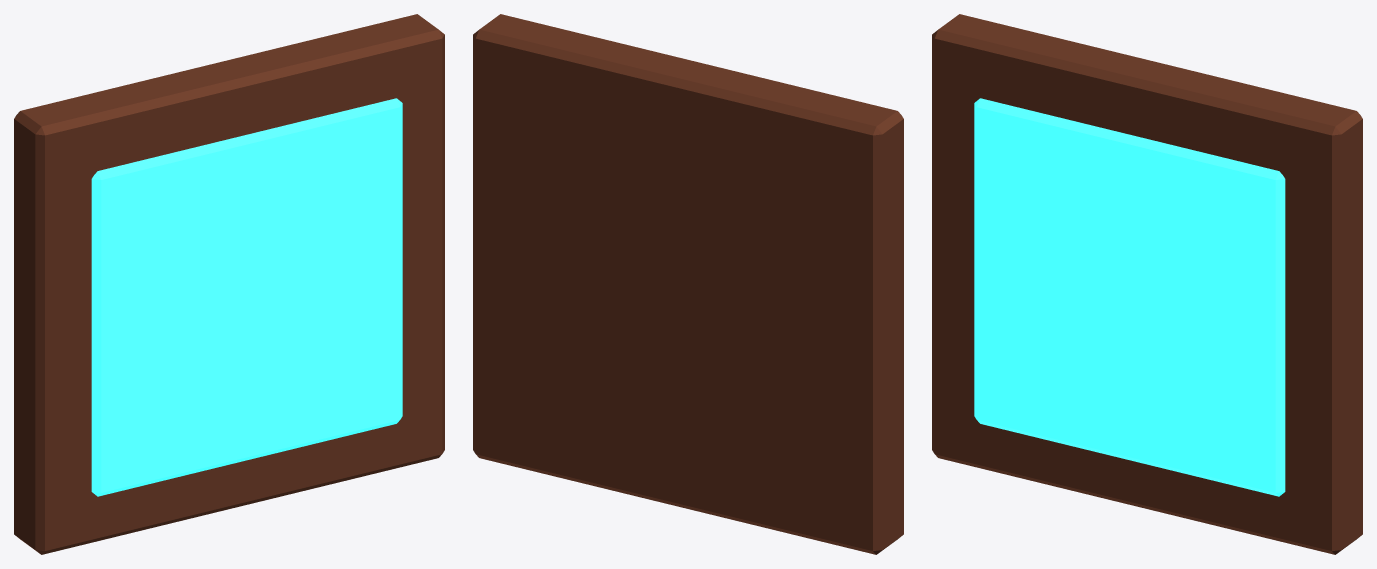
File: RUIN_DET_LightPanel.glb
The picture shows the model from 3 angles, left to right: view 1: azimuth 30°, elevation 25°; view 2: azimuth 150°, elevation 25°; view 3: azimuth 330°, elevation 25°; orthographic projection.
Visible parts, largest first — view 1: RUIN_DET_LightPanel; view 2: RUIN_DET_LightPanel; view 3: RUIN_DET_LightPanel.
Part boxes in pixels (box(x1,y1,x2,y2)): RUIN_DET_LightPanel: box(14, 14, 444, 554); RUIN_DET_LightPanel: box(473, 14, 903, 554); RUIN_DET_LightPanel: box(932, 14, 1362, 554).
Size of the model in its own units: 0.5 by 0.5 by 0.075.
